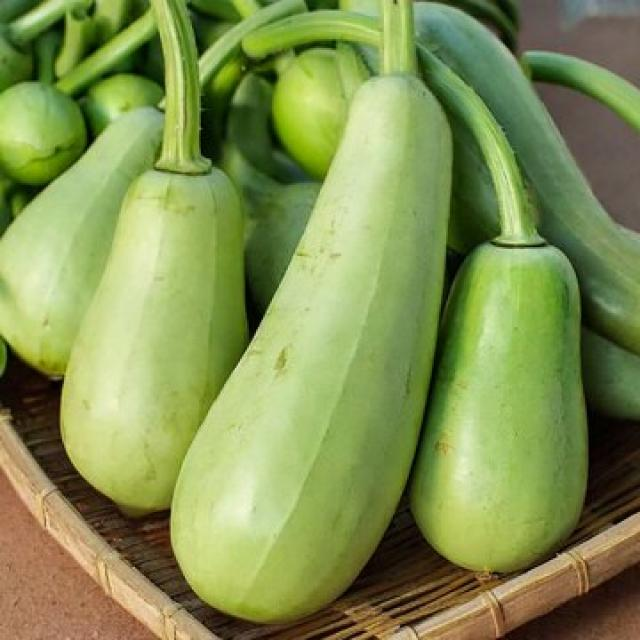Bell Pepper: (0, 2, 7, 402)
Bottle Gourd: (167, 69, 453, 624), (57, 0, 249, 517), (407, 43, 590, 576)
Radish: (337, 0, 638, 421)
